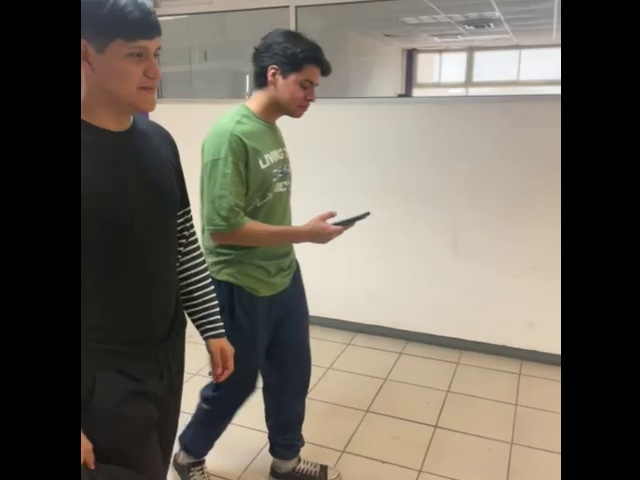mixto2: (324, 203, 377, 232)
